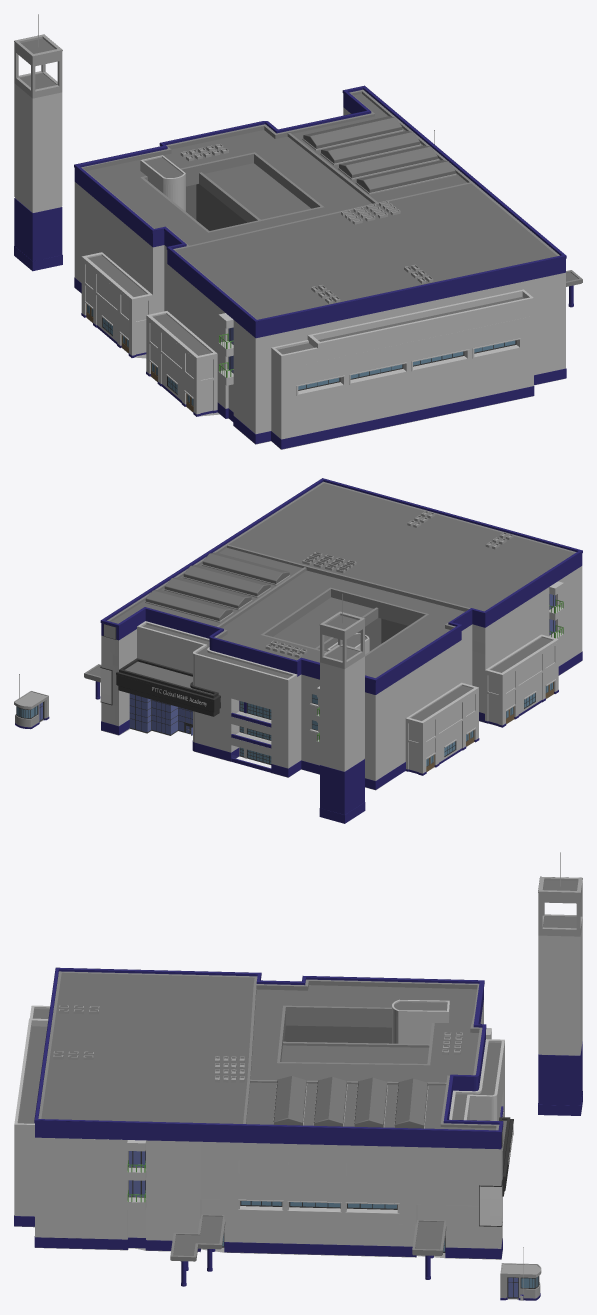
Rendered from SM_PTCC_Manila.fbx.
3 views of the same model, one above another, from view 1: azimuth 30°, elevation 25°; view 2: azimuth 150°, elevation 25°; view 3: azimuth 270°, elevation 25° (orthographic). The views are drawn at different scales.
Parts seen in each view (by area): view 1: polySurface229; view 2: polySurface229; view 3: polySurface229.
Part boxes in pixels (x1,y1,x2,y2): polySurface229: [14, 14, 582, 449]; polySurface229: [14, 478, 582, 823]; polySurface229: [14, 852, 582, 1300].
Bounding box in the file's own units: 9406 × 5265 × 10574.
